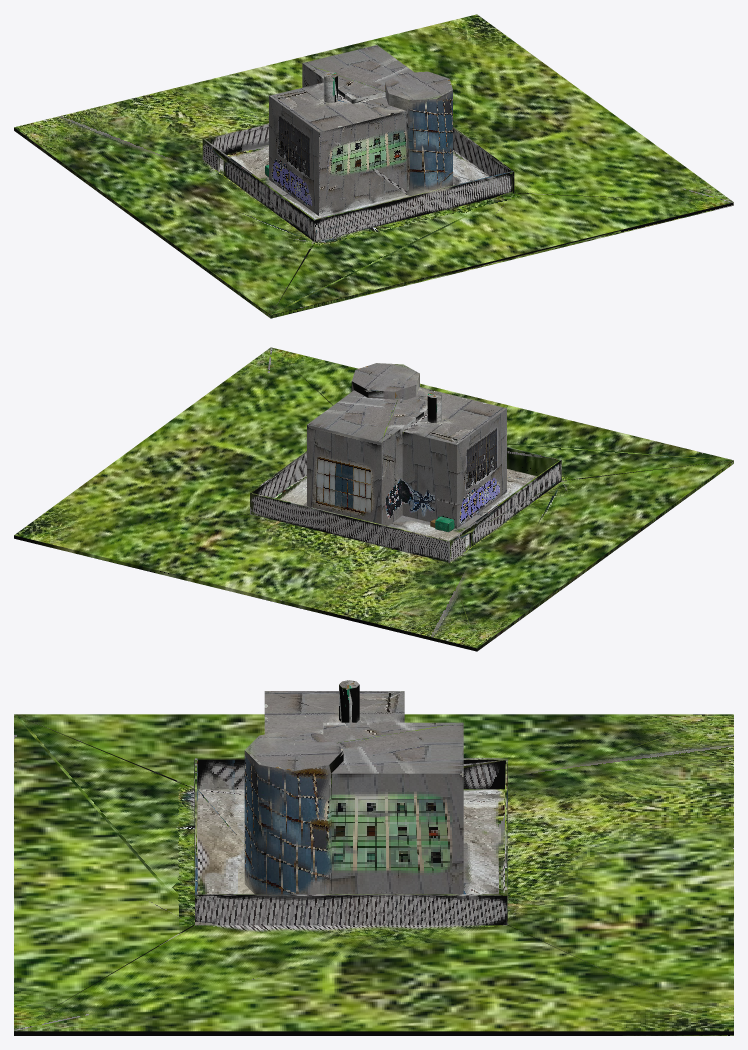
The model's file is researchlaboutside.glb.
3 views of the same model, one above another, from view 1: azimuth 30°, elevation 25°; view 2: azimuth 150°, elevation 25°; view 3: azimuth 270°, elevation 25° (orthographic). The views are drawn at different scales.
Parts seen in each view (by area): view 1: ResearchLabOutside2; view 2: ResearchLabOutside2; view 3: ResearchLabOutside2.
Part boxes in pixels (<box>): ResearchLabOutside2: <box>14,14,733,318</box>; ResearchLabOutside2: <box>14,347,733,651</box>; ResearchLabOutside2: <box>14,680,733,1035</box>.
Size of the model in its own units: 145 by 34 by 139.
Materials: 1 (1 with a texture image).
